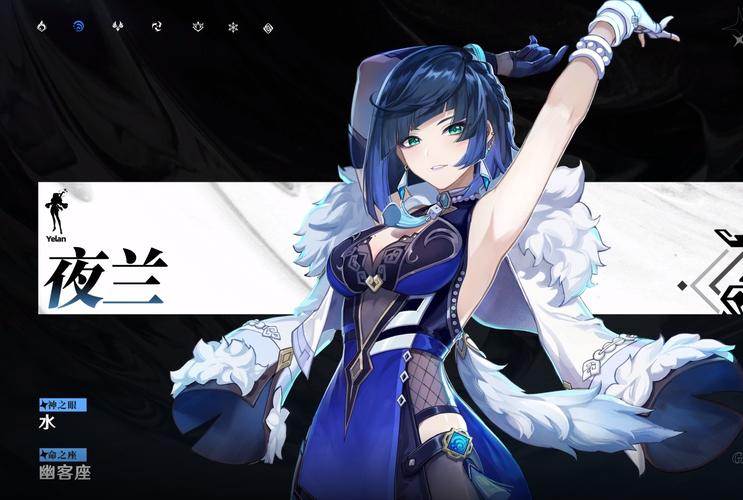夜兰: (292, 1, 681, 494)
